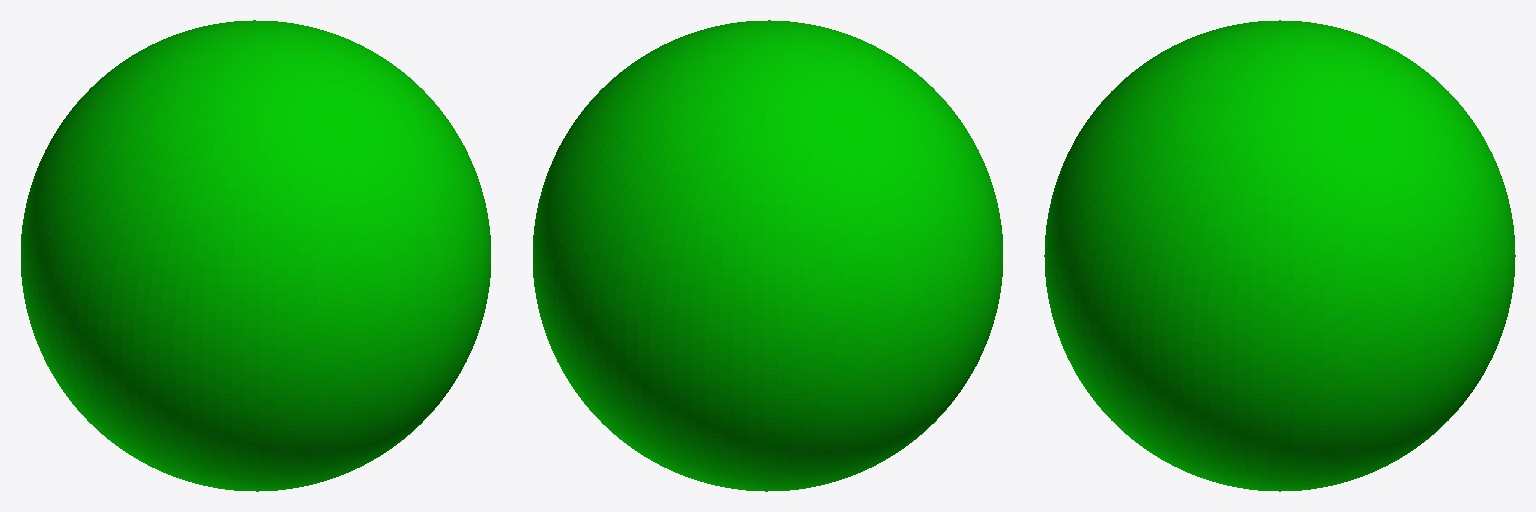
The model's file is esfera.obj.
The picture shows the model from 3 angles: view 1: azimuth 30°, elevation 25°; view 2: azimuth 150°, elevation 25°; view 3: azimuth 270°, elevation 25°; orthographic projection.
Parts seen in each view (by area): view 1: Sphere; view 2: Sphere; view 3: Sphere.
Boxes of the visible parts, x1,y1,x2,y2 form: Sphere: [21, 20, 490, 491]; Sphere: [533, 20, 1002, 491]; Sphere: [1044, 20, 1515, 491].
Size of the model in its own units: 5.18 by 5.18 by 5.18.